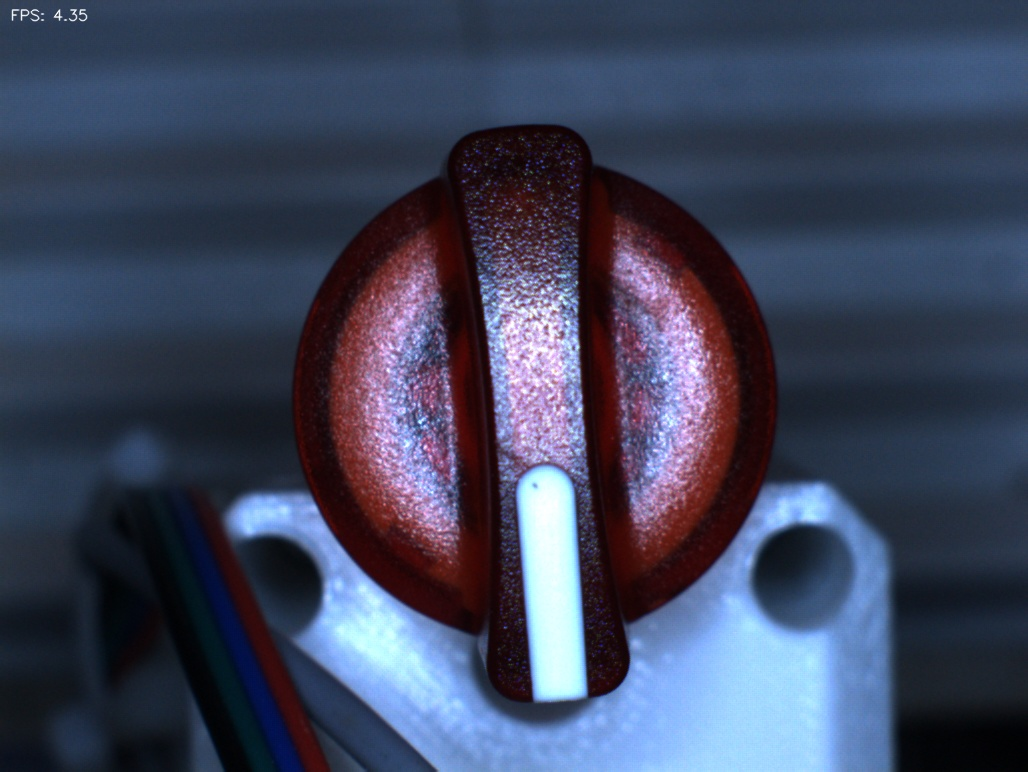PointNoir: (509, 459, 567, 518)
